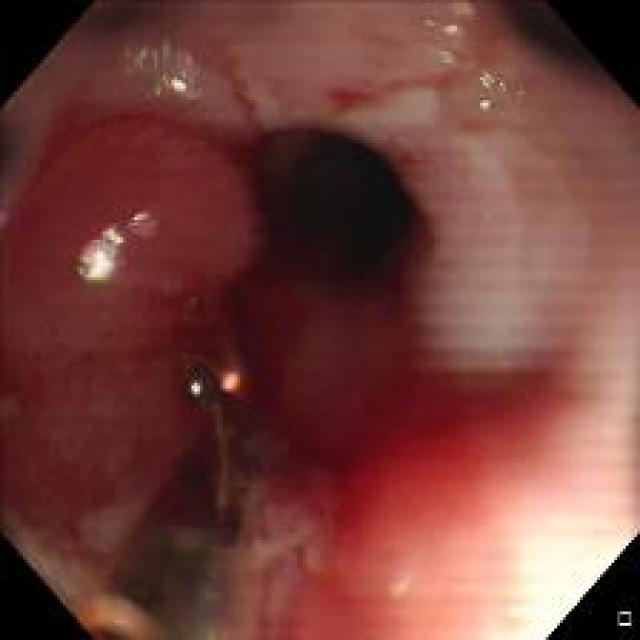blur: (96, 101, 551, 584)
color misalignment: (121, 31, 211, 106), (76, 210, 152, 282), (421, 1, 476, 35), (478, 70, 524, 108), (188, 380, 204, 398)
contrast: (255, 125, 419, 349)
instrument: (85, 362, 280, 631)
saturation: (520, 520, 631, 630)
specularity: (86, 244, 115, 281), (169, 72, 188, 92), (479, 98, 490, 110)
